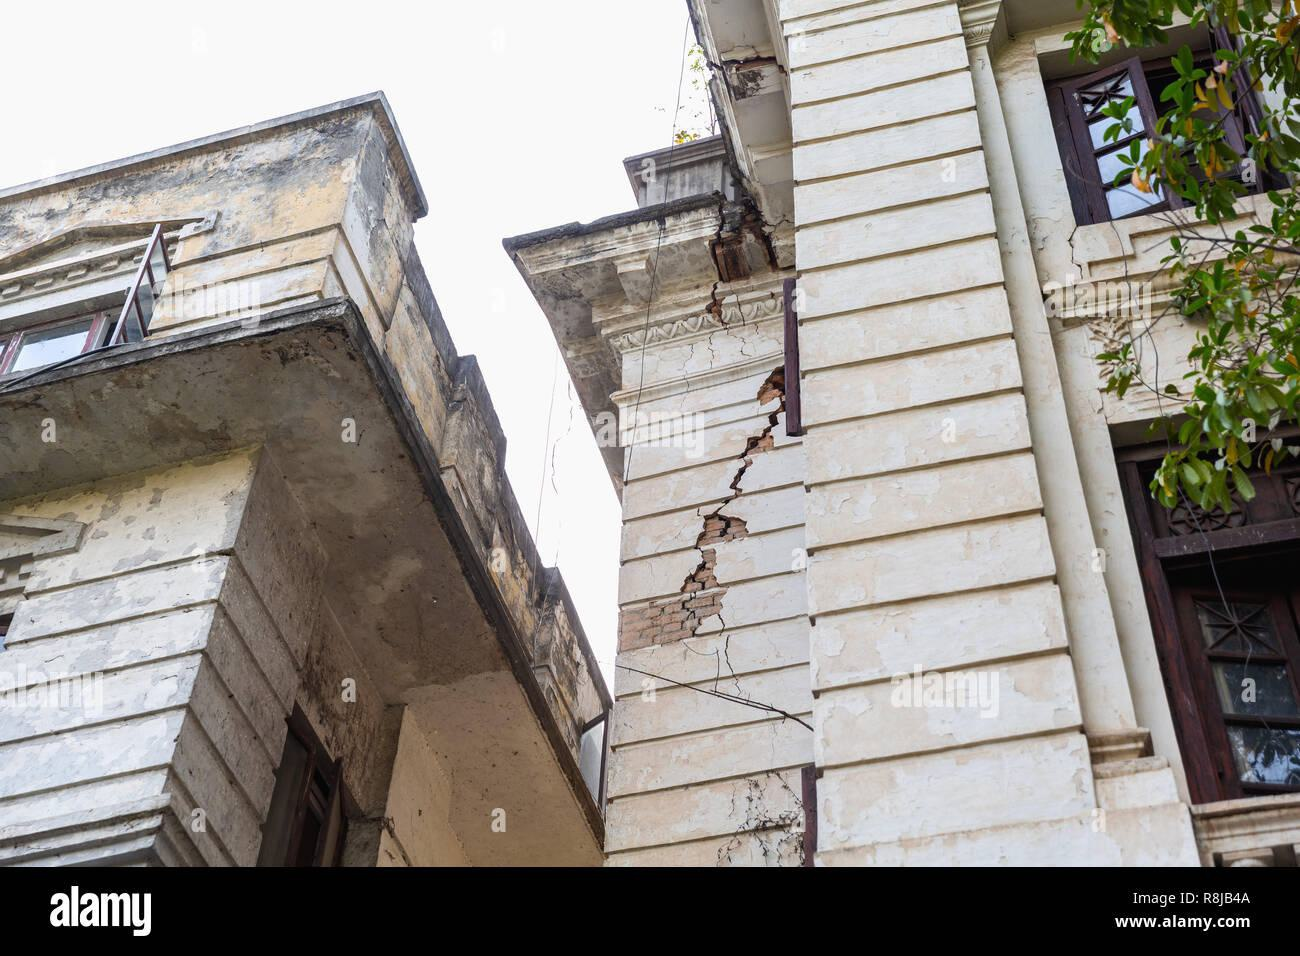crack: (727, 357, 806, 489), (684, 498, 740, 618), (703, 46, 791, 98), (695, 199, 739, 297), (1055, 217, 1096, 288)
